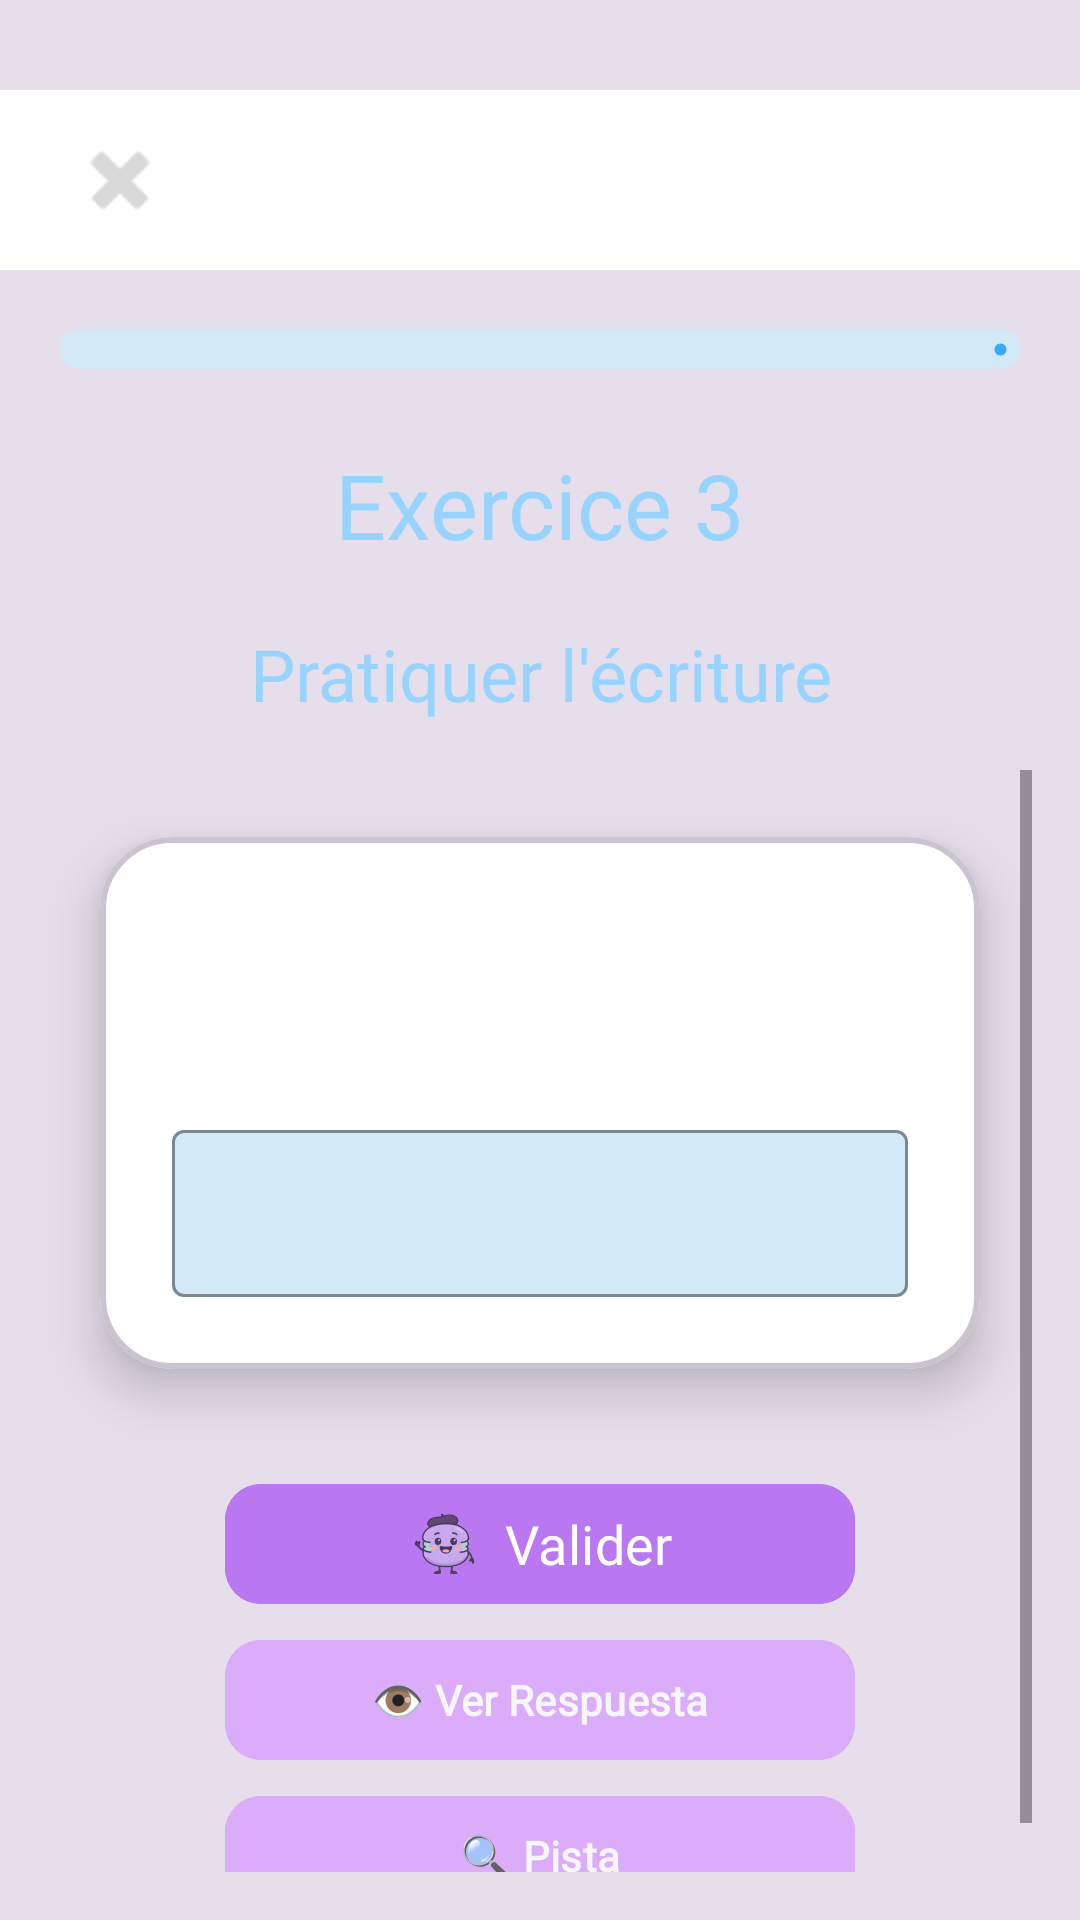

Named icons in this screenshot (1080 x 1920) and their bounding boxes, (x1, y1, x2, y2):
Cerrar: (91, 152, 149, 208)
